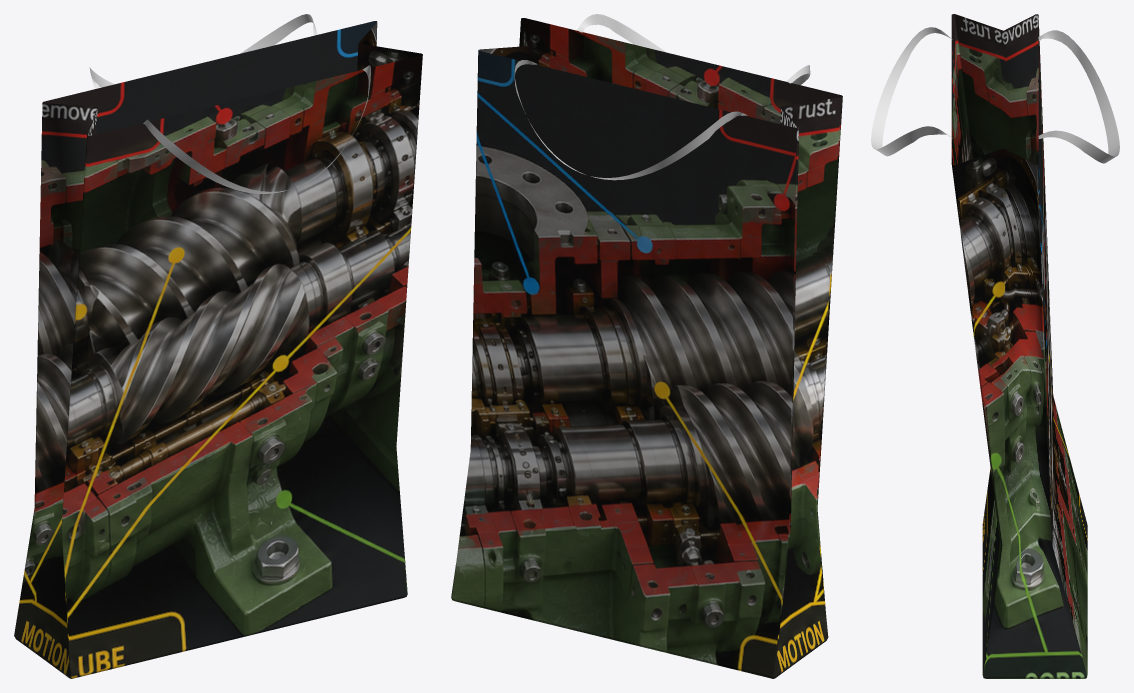
File: Paper.glb
The picture shows the model from 3 angles, left to right: view 1: azimuth 30°, elevation 25°; view 2: azimuth 150°, elevation 25°; view 3: azimuth 270°, elevation 25°; orthographic projection. The views are drawn at different scales.
Visible parts, largest first — view 1: Object_2.001, Object_2.002; view 2: Object_2.001, Object_2.002; view 3: Object_2.001, Object_2.002.
Part boxes in pixels (box(x1,y1,x2,y2)): Object_2.001: box(14, 21, 422, 678); Object_2.002: box(89, 14, 370, 193); Object_2.001: box(451, 18, 842, 678); Object_2.002: box(514, 14, 810, 180); Object_2.001: box(951, 14, 1087, 678); Object_2.002: box(871, 27, 1119, 163).
Size of the model in its own units: 3.57 by 5.73 by 2.46.
2 materials, 1 textured.
